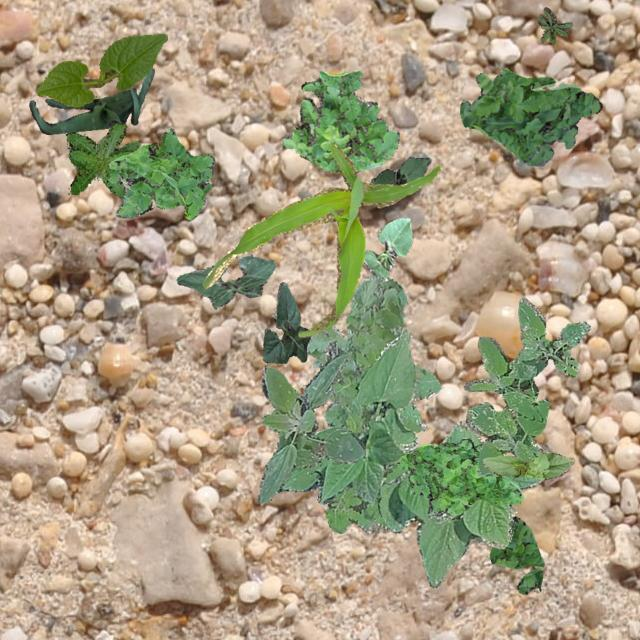crop: (274, 330, 550, 588), (202, 142, 439, 336), (35, 33, 166, 106), (28, 66, 154, 134), (176, 255, 276, 308), (262, 282, 308, 362), (362, 217, 412, 280), (482, 452, 574, 478), (370, 156, 430, 183)
weed: (306, 272, 440, 532), (462, 296, 590, 474), (256, 351, 364, 504), (458, 68, 600, 166), (282, 70, 398, 172), (396, 436, 522, 514), (106, 128, 214, 218), (65, 121, 138, 198), (488, 516, 544, 594), (536, 6, 572, 44)
